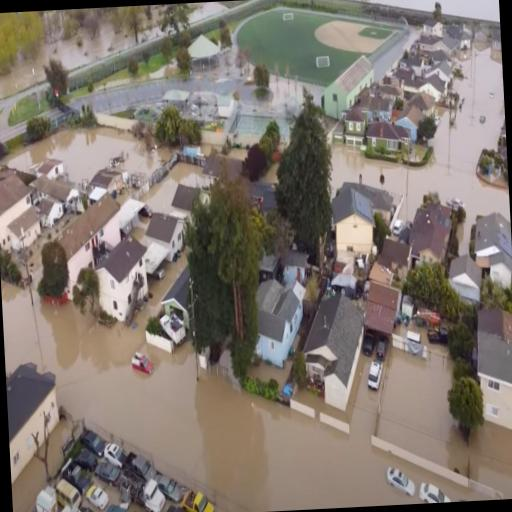flood: (32, 252, 512, 512), (408, 44, 510, 253), (0, 20, 136, 97), (5, 125, 171, 182), (332, 143, 407, 197), (142, 161, 204, 217), (1, 282, 39, 370), (12, 458, 45, 512), (47, 418, 72, 478), (439, 0, 500, 20), (191, 2, 224, 19), (260, 160, 278, 184), (227, 147, 247, 159), (277, 138, 286, 151)
house: (50, 190, 126, 304), (299, 290, 366, 414), (6, 364, 62, 510), (327, 181, 399, 267), (476, 304, 512, 441), (93, 232, 146, 322), (249, 280, 304, 366), (318, 52, 378, 121), (0, 165, 43, 257), (402, 198, 454, 270), (136, 210, 186, 272), (363, 272, 405, 344), (468, 209, 512, 276), (159, 268, 194, 330), (364, 119, 412, 160), (36, 173, 80, 211), (87, 166, 124, 206), (170, 180, 210, 216), (280, 248, 312, 287), (38, 196, 62, 227), (417, 73, 446, 98), (38, 156, 66, 180), (424, 58, 453, 80), (422, 16, 444, 40), (437, 38, 458, 56), (410, 55, 427, 76), (490, 24, 502, 52)
